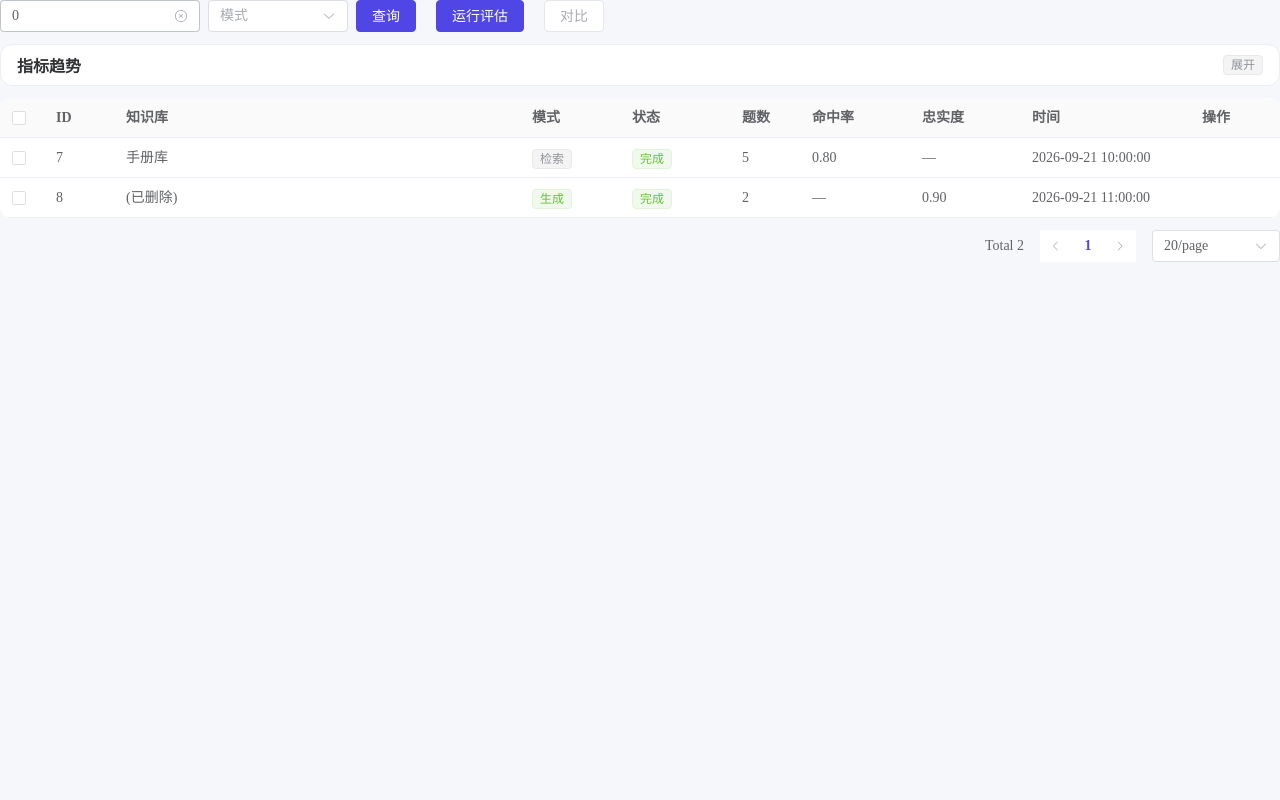
Test case: EvalPage › row click loads run detail
The width and height of the screenshot is (1280, 800).
Click the row "7 手册库 检索 完成 5 0.80 — 2026-09-21 10:00:00". click: (640, 158)
box: [0,138,1279,178]
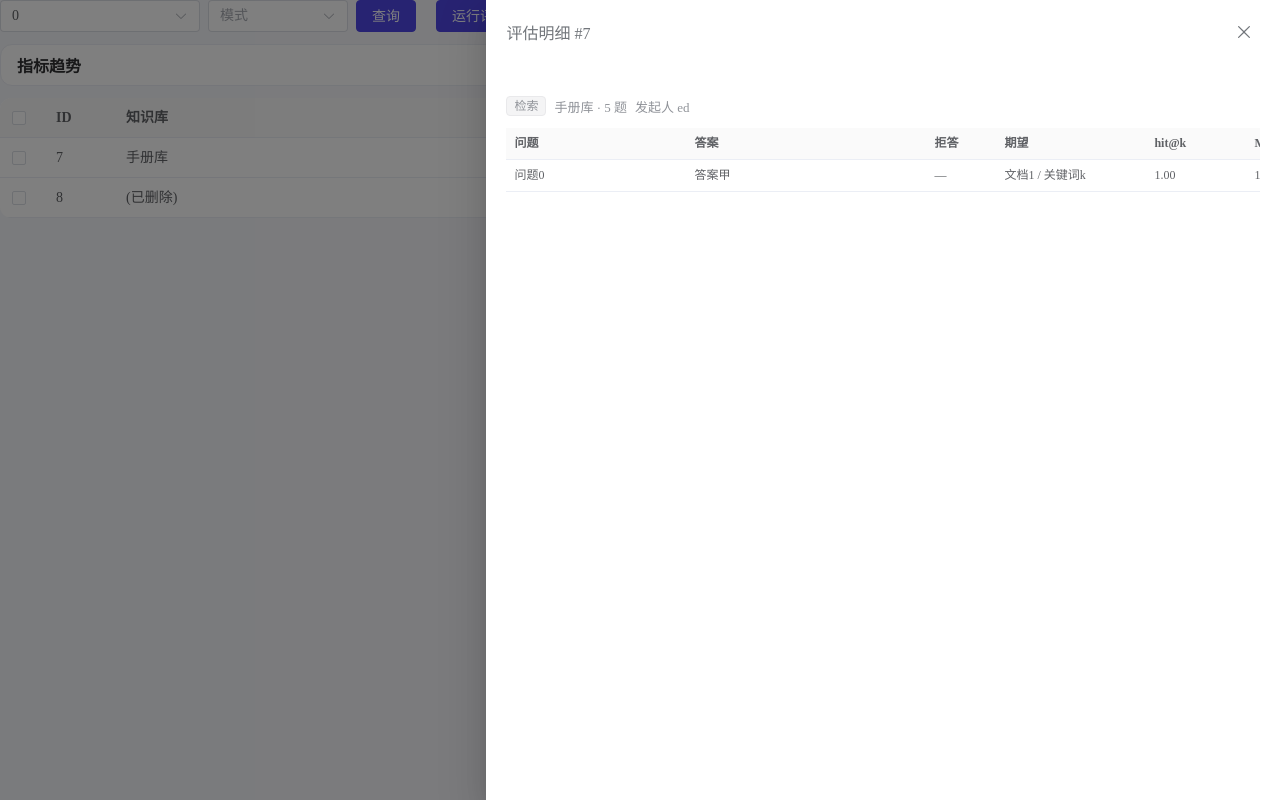
expect the text "文档1" is shown: met, box [1004,168,1086,182]
expect the text "关键词k" is shown: met, box [1004,168,1086,182]
